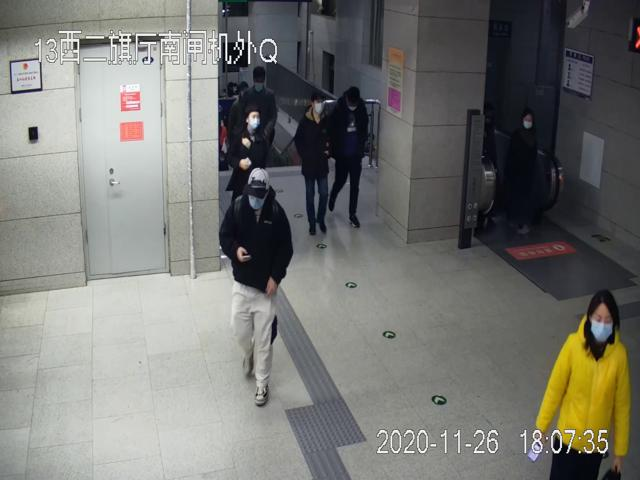person: (534, 288, 631, 480), (218, 168, 294, 407), (327, 87, 370, 228), (294, 94, 332, 236), (227, 107, 268, 208)
